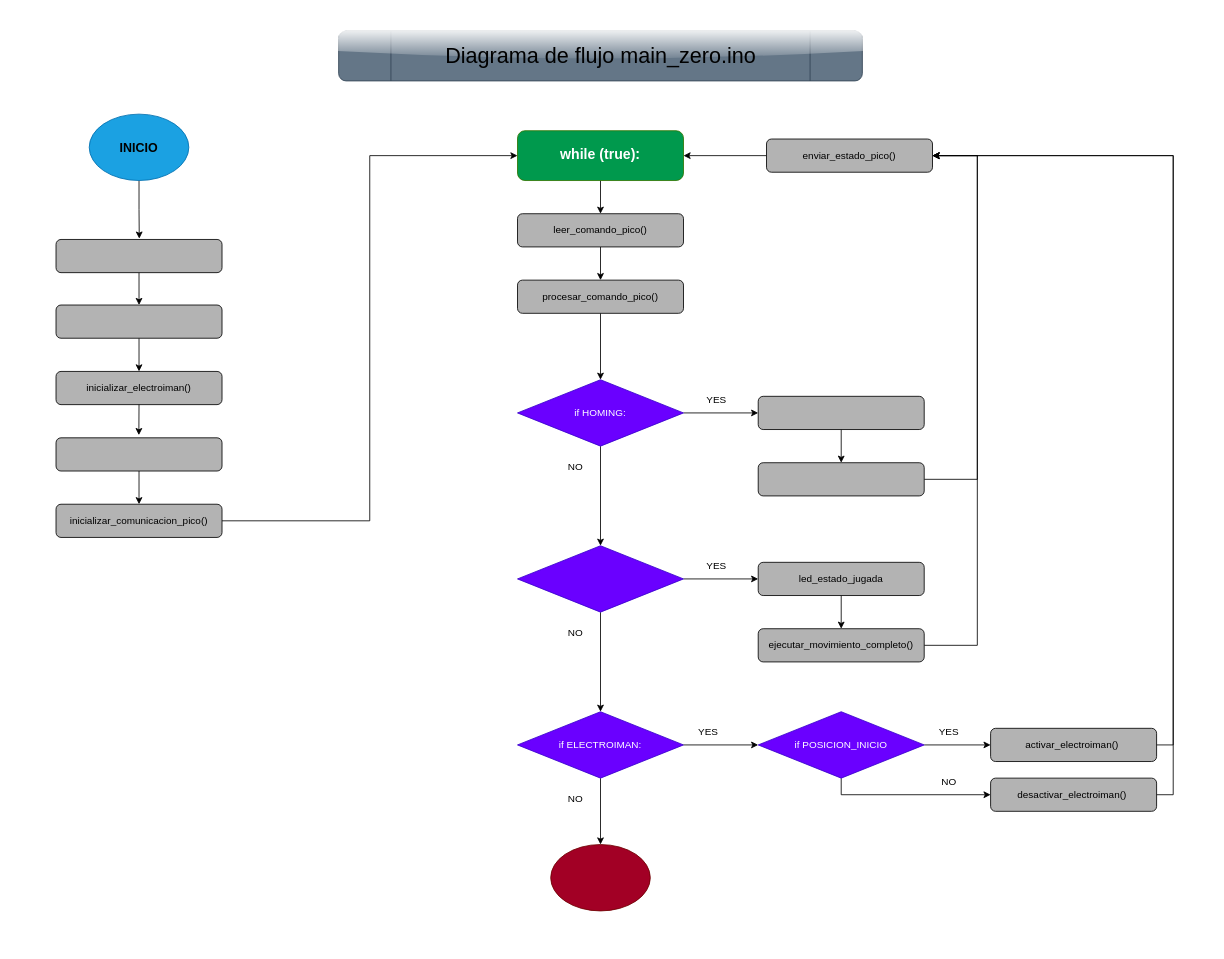
Image size: 1224x959. Some labels were removed from this diagram. The centre of each missing label's shape, as x and y in pixels:
"ejecutar_homing()" goes at [840,479].
"FIN" goes at [600,877].
"if MOVER_MOTORES:" goes at [600,578].
"inicializar_led_status()" goes at [138,454].
"inicializar_motores()" goes at [138,256].
"inicializar_sensores_AS5600()" goes at [138,321].
"led_estado_homing()" goes at [840,412].
